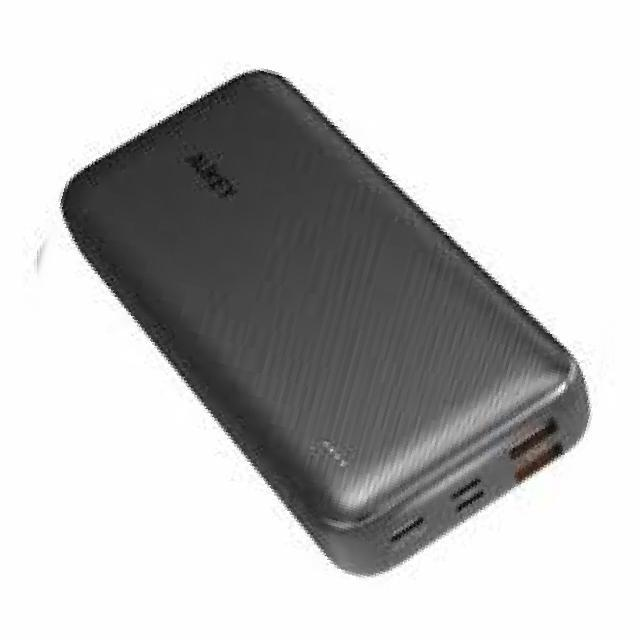Battery: (58, 40, 610, 596)
